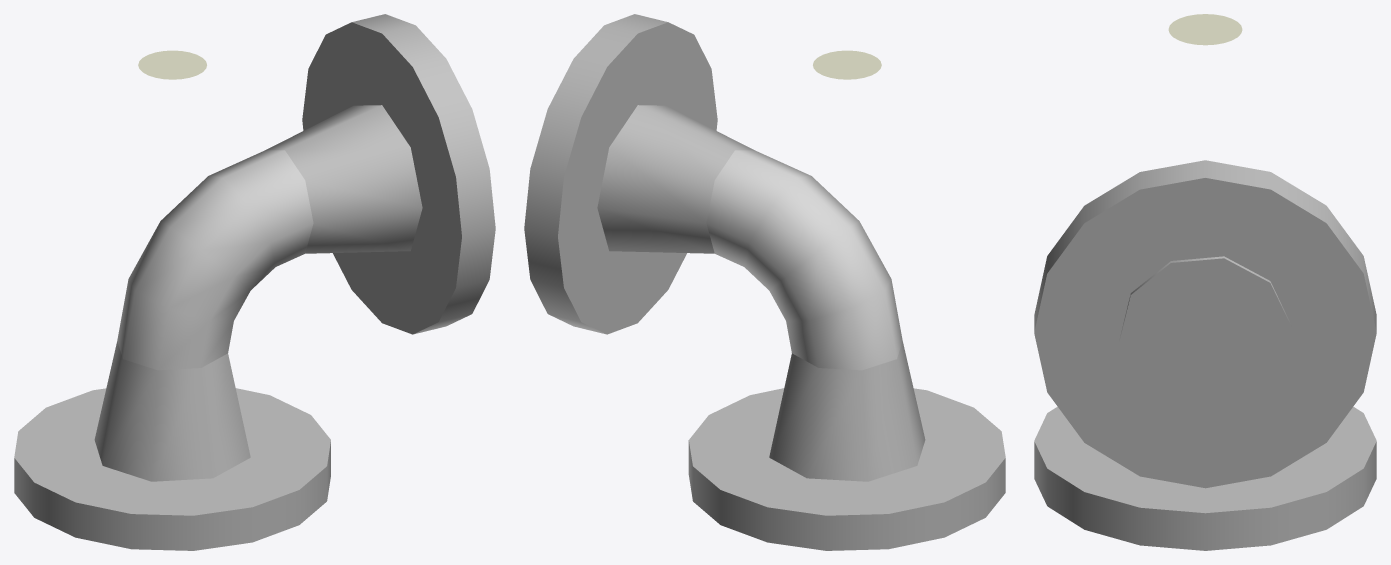
The model's file is 90-Elbow.fbx.
The picture shows the model from 3 angles, left to right: view 1: azimuth 30°, elevation 25°; view 2: azimuth 150°, elevation 25°; view 3: azimuth 270°, elevation 25°; orthographic projection. The views are drawn at different scales.
Visible parts, largest first — view 1: RFWN1, RFWN2, G_90_Elbow1, Model; view 2: RFWN1, RFWN2, G_90_Elbow1, Model; view 3: RFWN1, RFWN2, Model.
Part boxes in pixels (x1=…): RFWN1: x1=265, y1=14, x2=495, y2=334; RFWN2: x1=14, y1=341, x2=330, y2=550; G_90_Elbow1: x1=117, y1=150, x2=313, y2=370; Model: x1=138, y1=50, x2=206, y2=79; RFWN1: x1=524, y1=14, x2=754, y2=334; RFWN2: x1=688, y1=341, x2=1005, y2=550; G_90_Elbow1: x1=706, y1=150, x2=902, y2=370; Model: x1=813, y1=50, x2=881, y2=79; RFWN1: x1=1034, y1=160, x2=1376, y2=488; RFWN2: x1=1034, y1=406, x2=1376, y2=550; Model: x1=1168, y1=14, x2=1242, y2=45.
Bounding box in the file's own units: 6.44 × 6.75 × 4.62.
